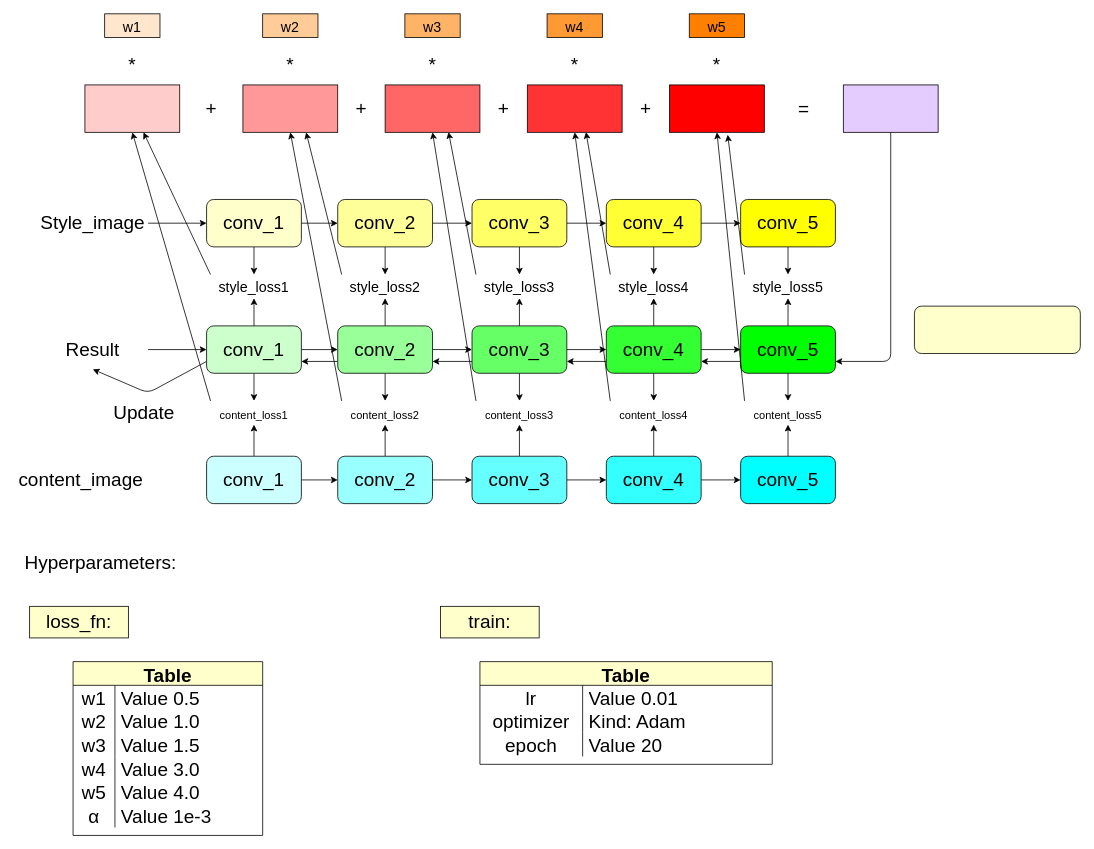
Some shapes in this 1094 by 849 pixel diagram are drawn without their labels. Each missing label, with the centre of its shape:
backpropagation: pixel 997 329
loss: pixel 890 108
loss1 = cont_loss1 + α * style_loss1: pixel 132 108
loss2 = cont_loss2 + α * style_loss2: pixel 290 108
loss3 = cont_loss3 + α * style_loss3: pixel 432 108
loss4 = cont_loss4 + α * style_loss4: pixel 574 108
loss5 = cont_loss5 + α * style_loss5: pixel 716 108
